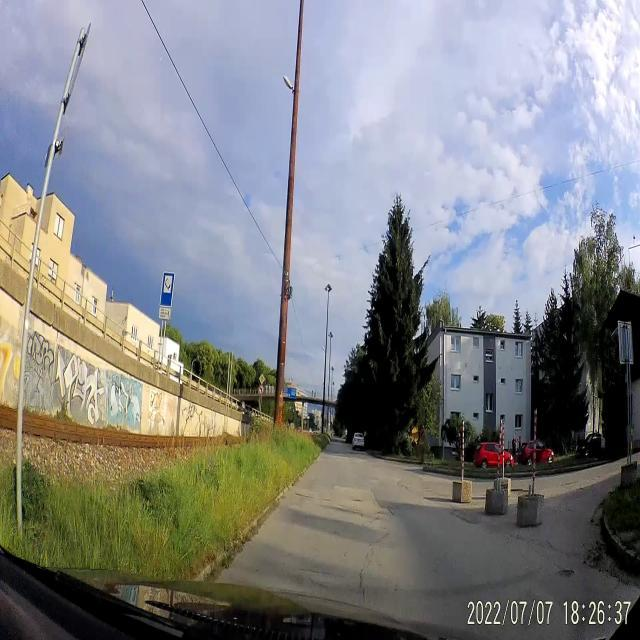Pothole: (550, 560, 586, 588)
